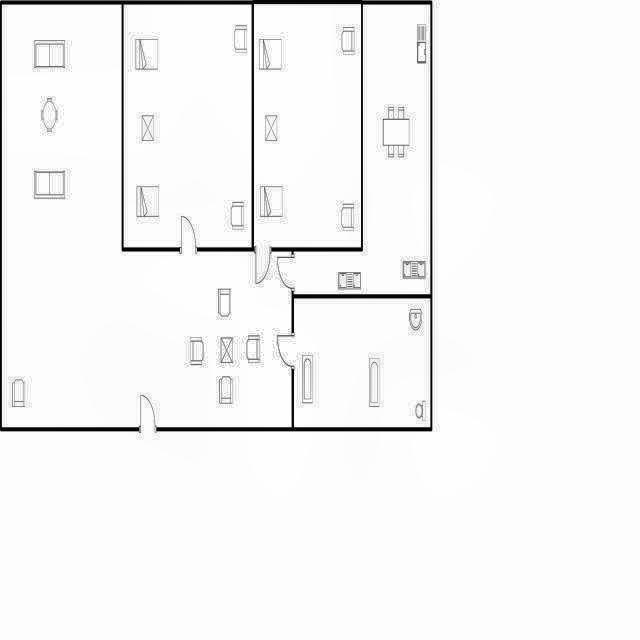room: (2, 4, 292, 427), (293, 4, 430, 294), (124, 5, 252, 247), (254, 4, 361, 247), (294, 298, 430, 427)
